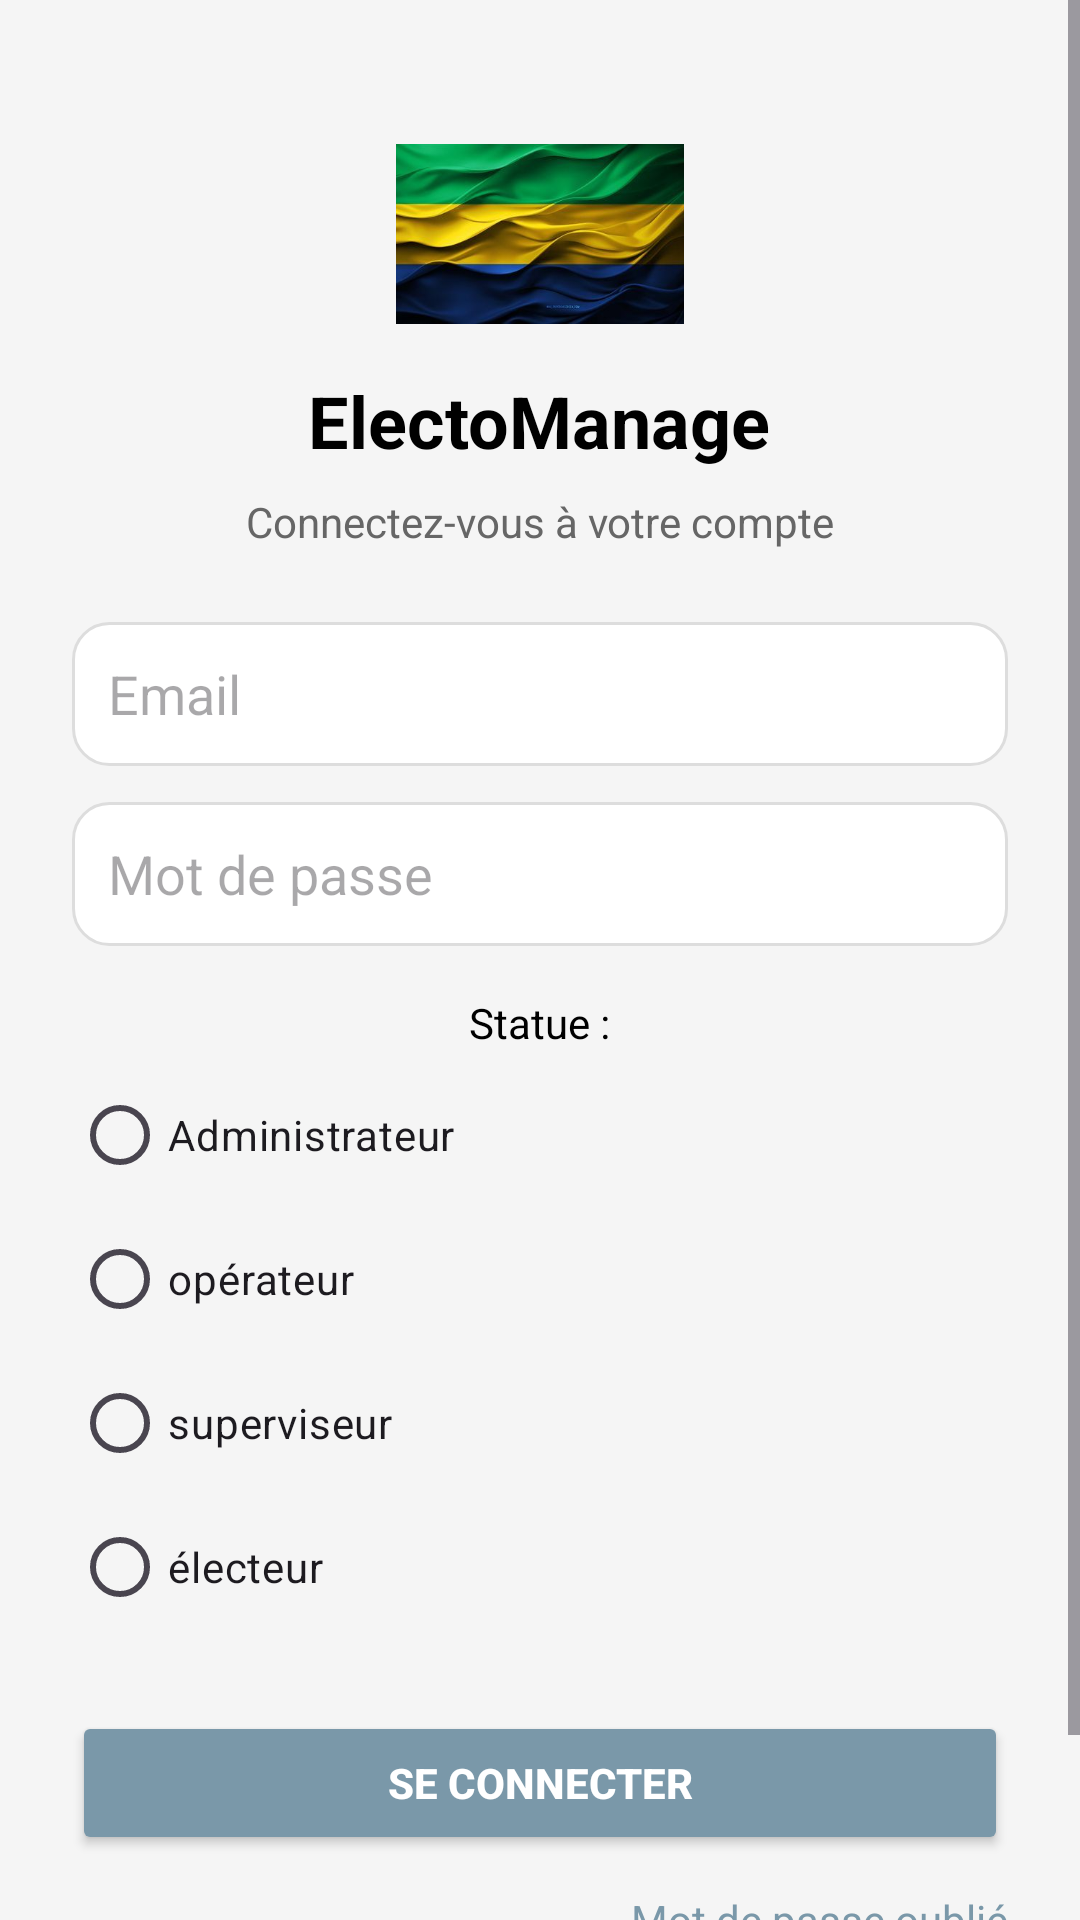

Where icons sit on this 1080w x 1920h app screen, as BBox(x1, y1, x2, y2):
flag: BBox(396, 144, 684, 324)
